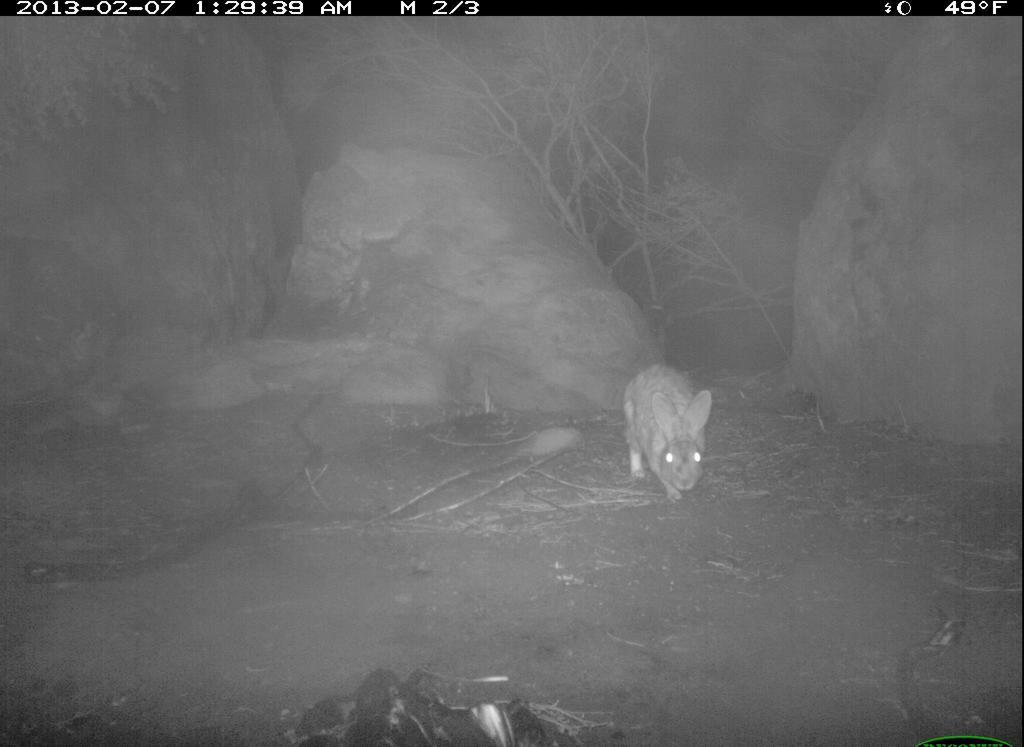rabbit: (607, 346, 737, 518)
